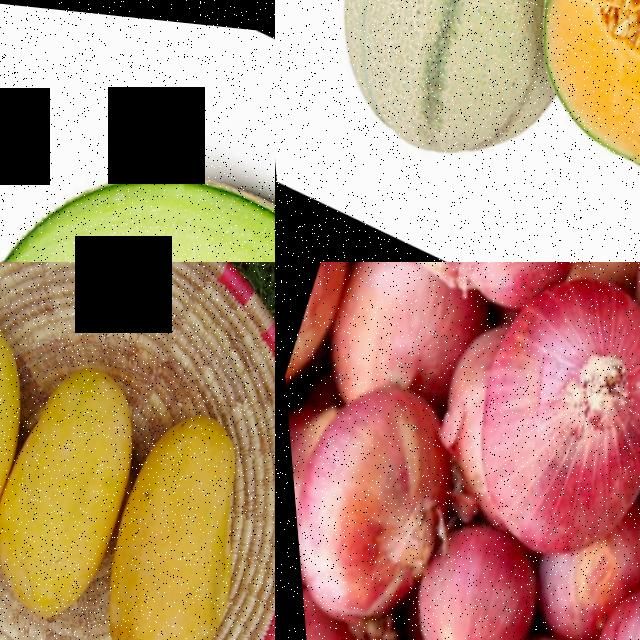mango: (56, 375, 275, 640), (0, 327, 171, 640), (0, 278, 63, 603)
melon: (275, 0, 610, 192), (0, 70, 275, 262), (500, 0, 640, 233)
onion: (422, 262, 640, 594), (279, 352, 482, 640), (311, 262, 487, 411), (383, 503, 552, 640), (428, 262, 596, 328), (559, 542, 640, 640)
